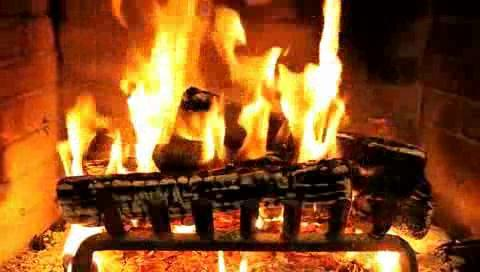fire: (103, 8, 348, 180)
